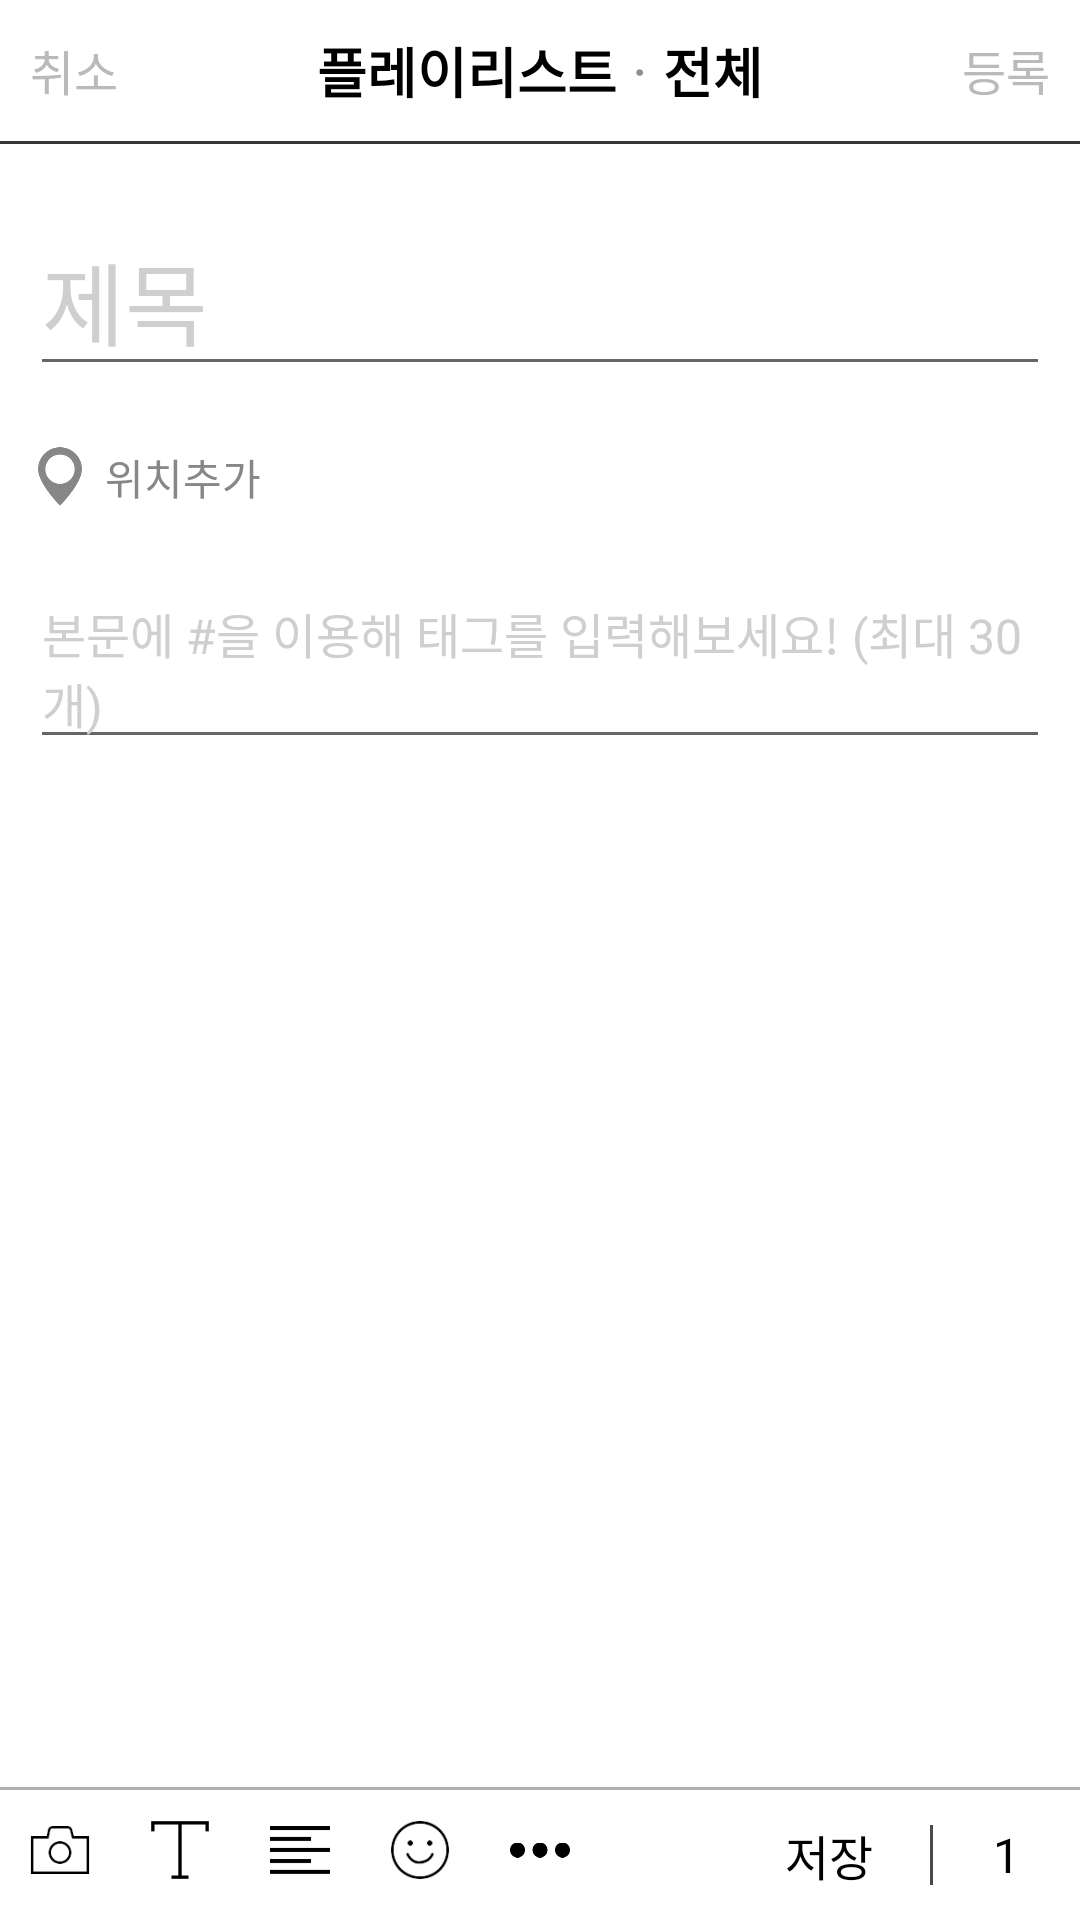

Point at icon controls on the screen. Image size 1080×1920, points as point (x, y).
align: point (300, 1850)
camera: point (60, 1850)
more: point (540, 1850)
smile: point (420, 1850)
text: point (180, 1850)
